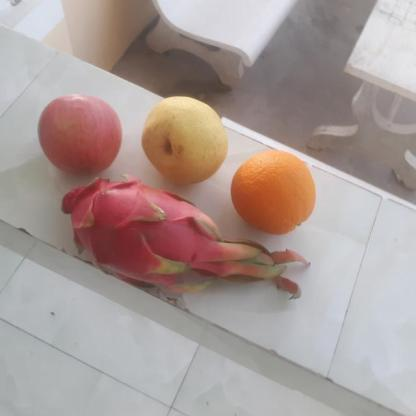apple: (35, 92, 123, 178)
orange: (226, 148, 319, 233)
pear: (138, 95, 232, 183)
pitaya: (57, 175, 223, 280)
